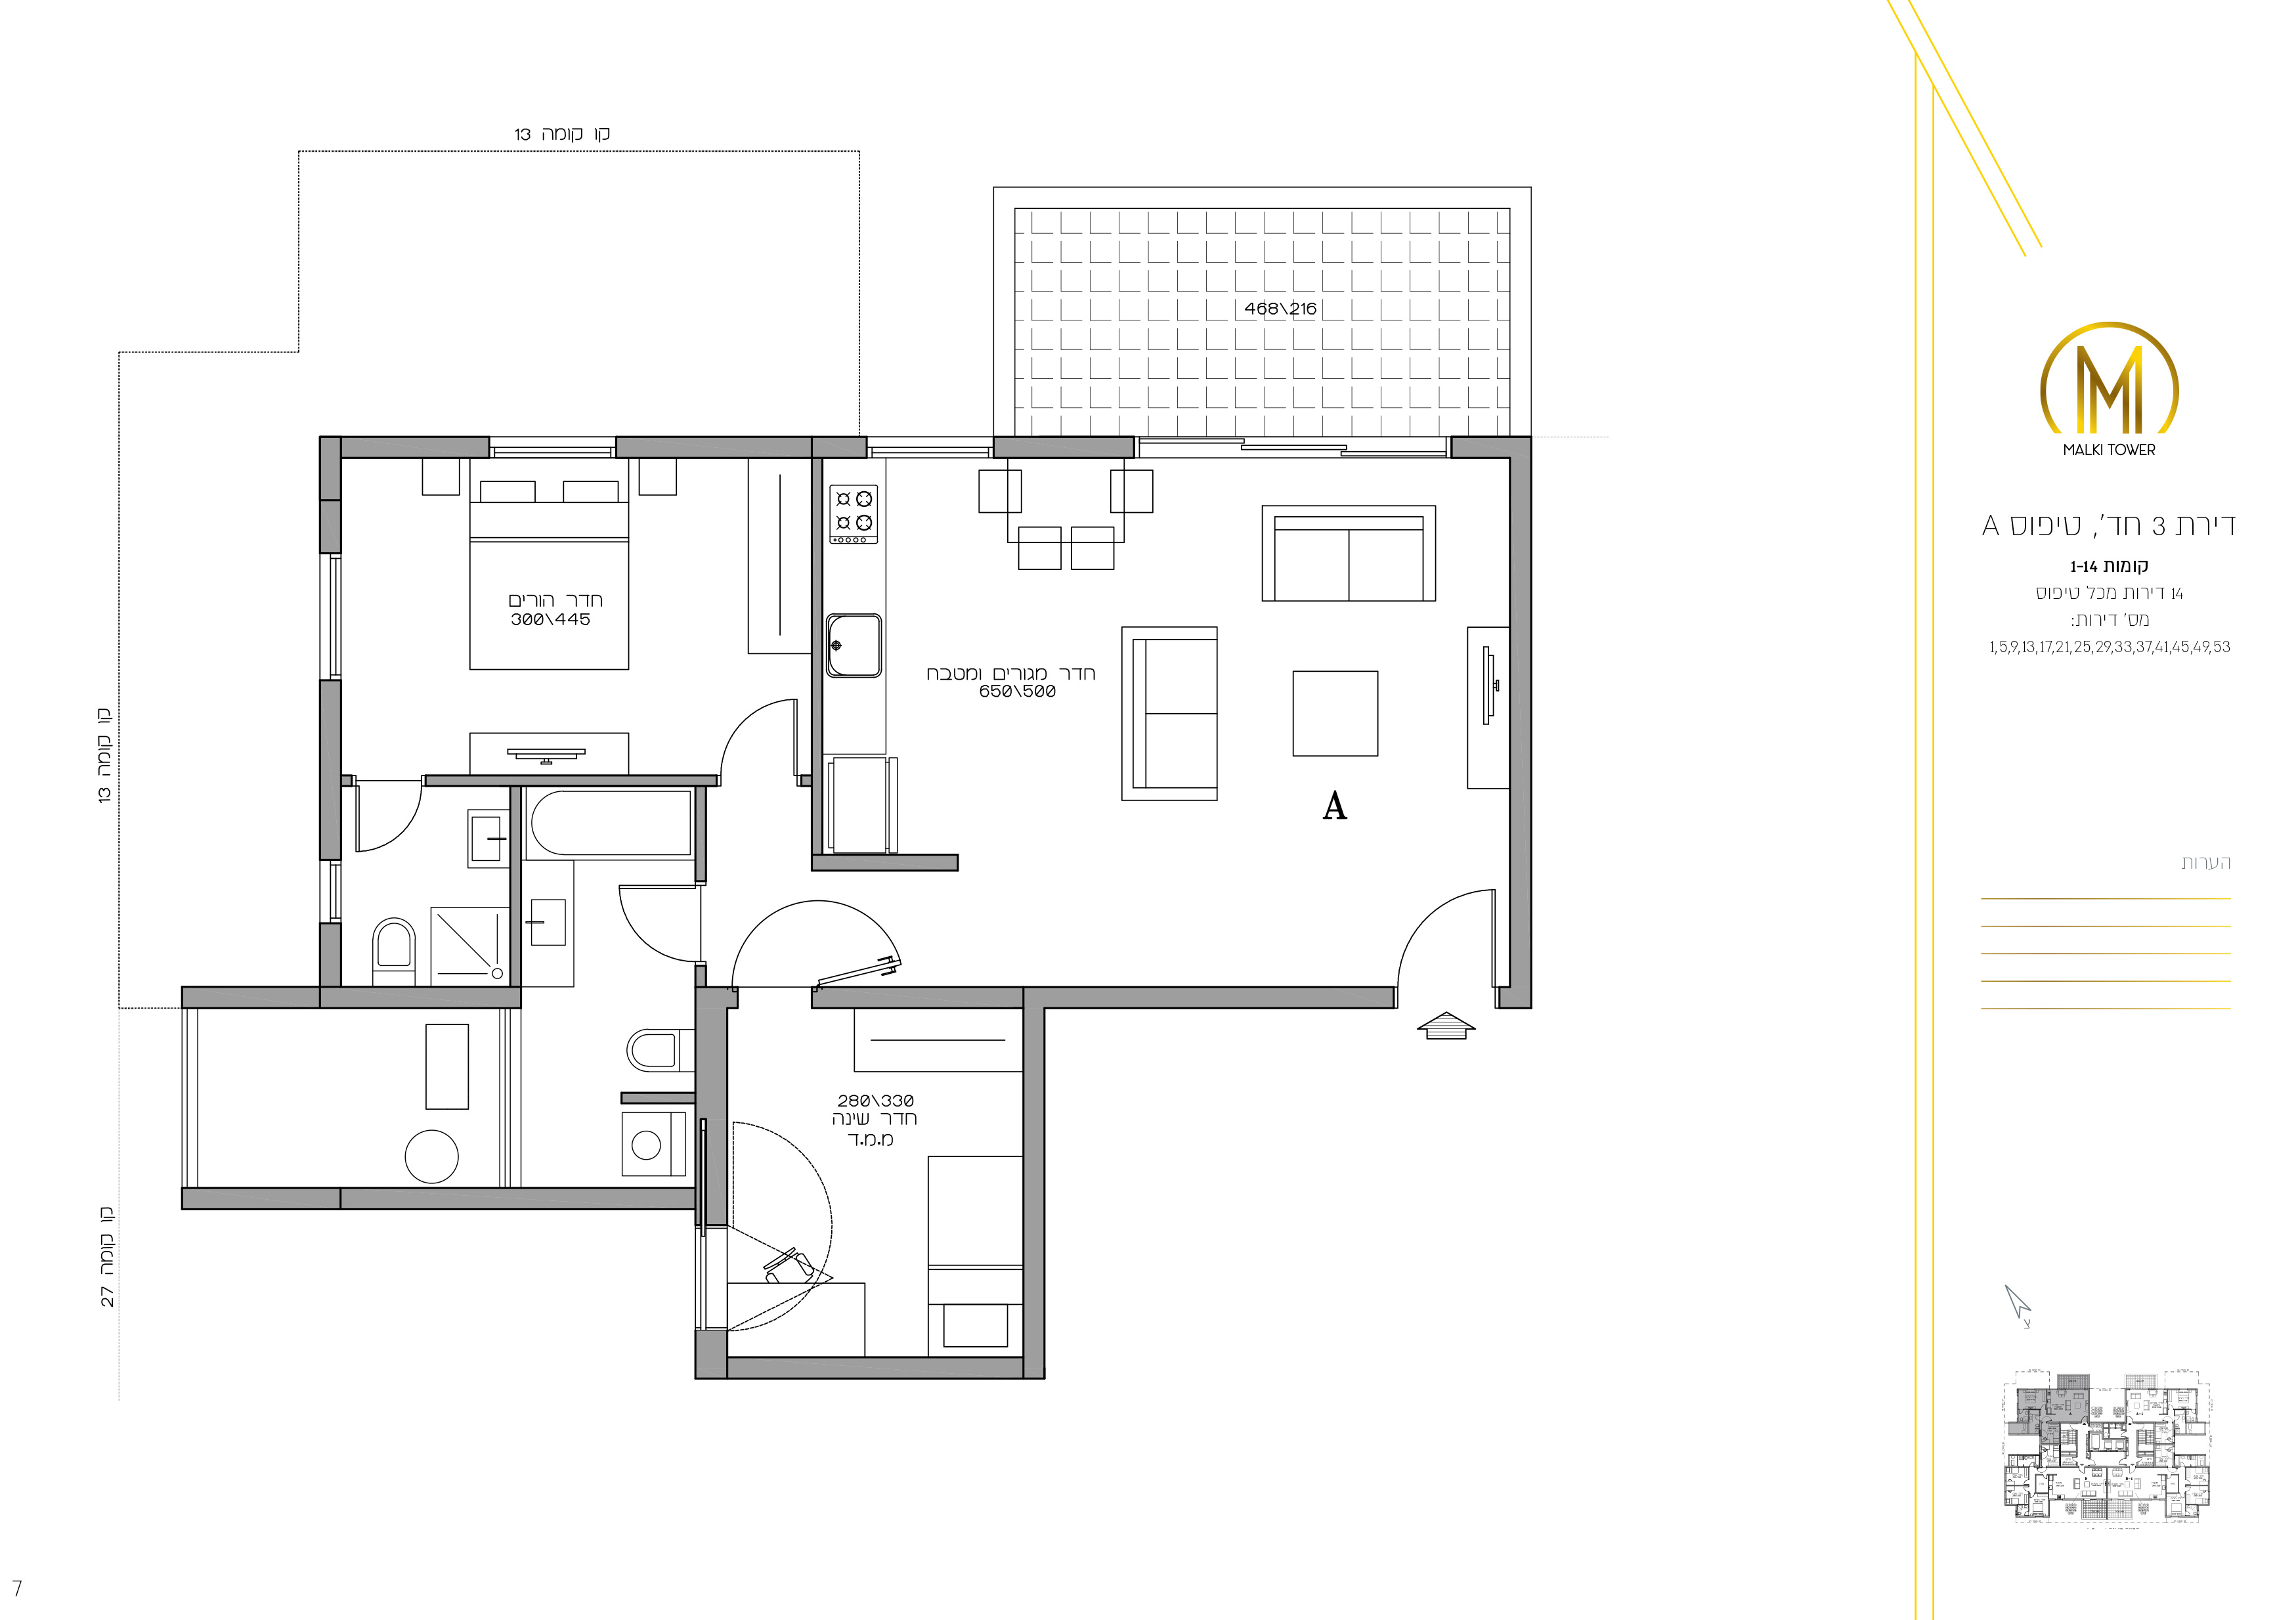door: (1392, 882, 1506, 980), (603, 875, 691, 975), (717, 696, 804, 770), (349, 785, 428, 861)
wall: (1511, 435, 1530, 1010), (184, 1189, 694, 1208), (1045, 989, 1397, 1012), (184, 987, 521, 1010), (1025, 987, 1045, 1380), (727, 1359, 1024, 1378), (813, 459, 824, 854), (617, 437, 811, 456), (426, 775, 717, 785), (813, 856, 959, 871)
window: (1134, 433, 1451, 458), (489, 437, 619, 461), (868, 435, 997, 459), (319, 552, 342, 679), (319, 861, 342, 924)
